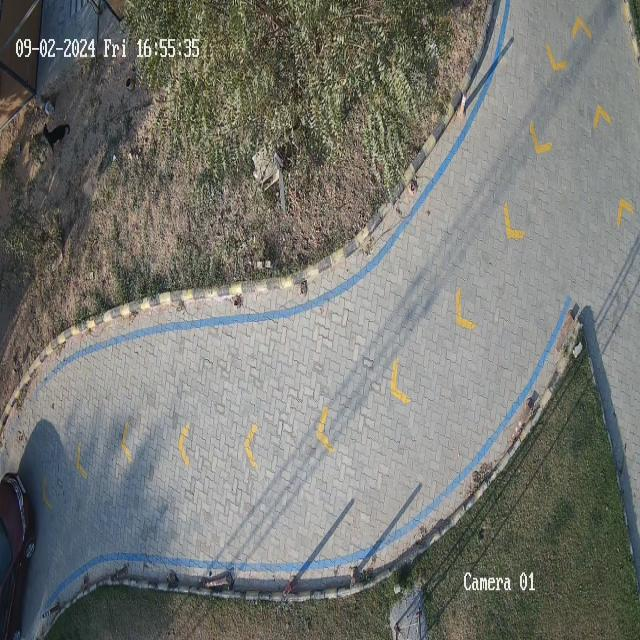car: (0, 473, 35, 640)
